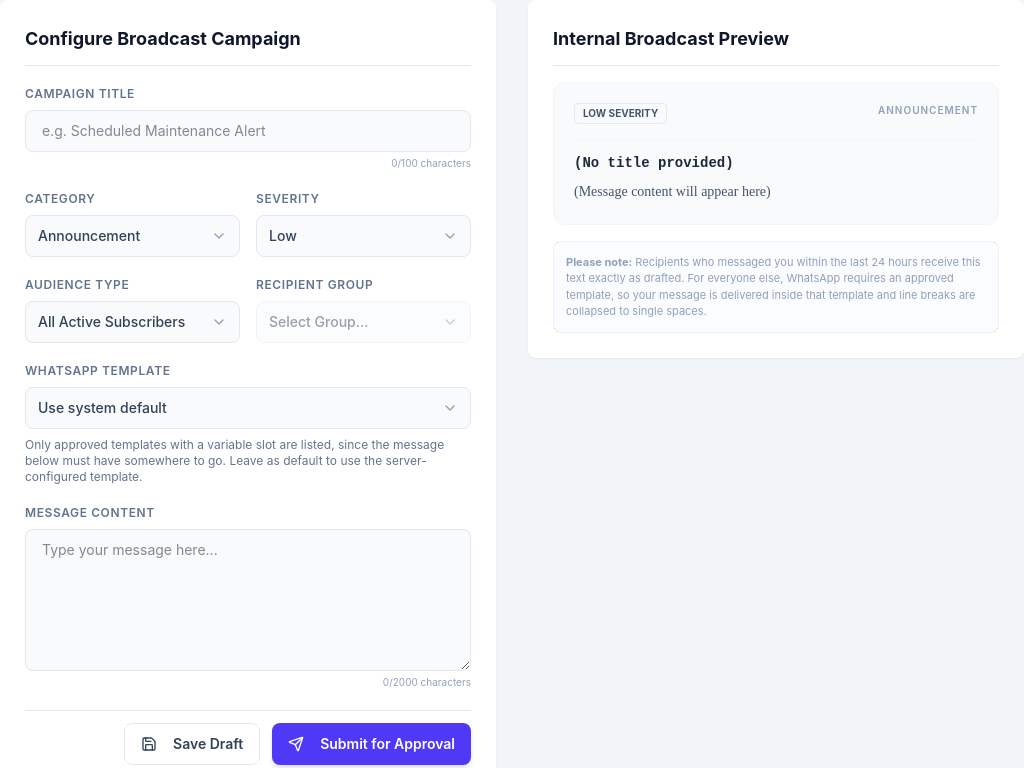
BroadcastForm live preview › mirrors the typed message into the preview
Type "meeting in an hr" into the text box with placeholder "Type your message here..." at (248, 600), box [25,529,471,671]
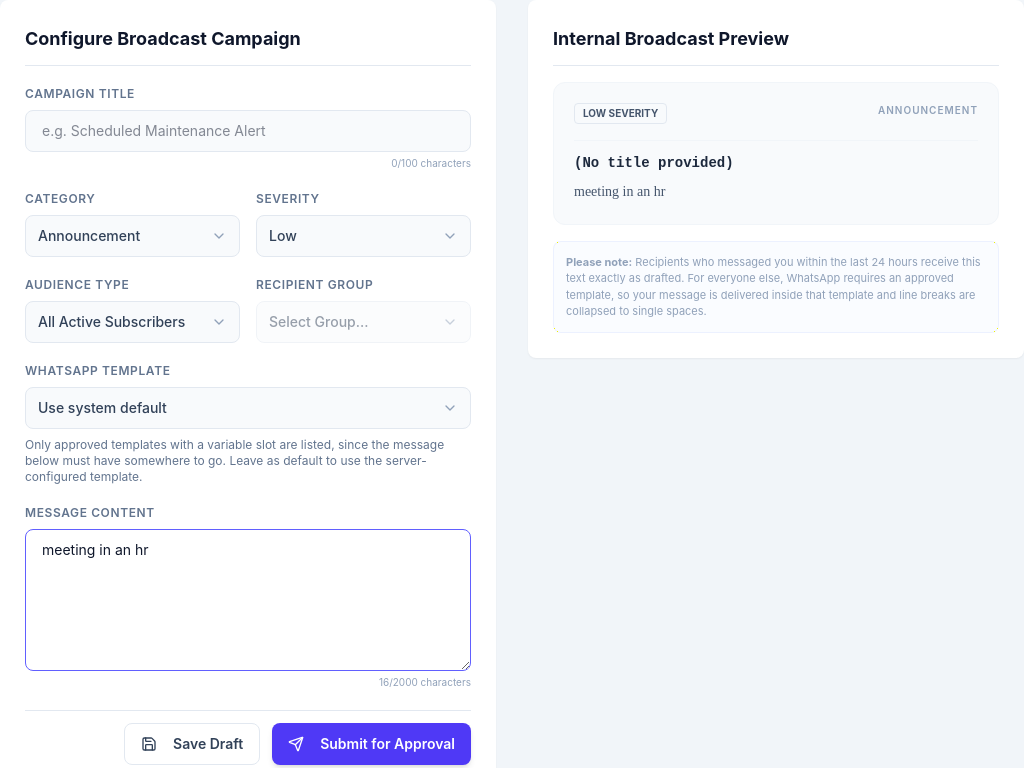
Now the text "meeting in an hr" is shown, box [574,184,665,199]
